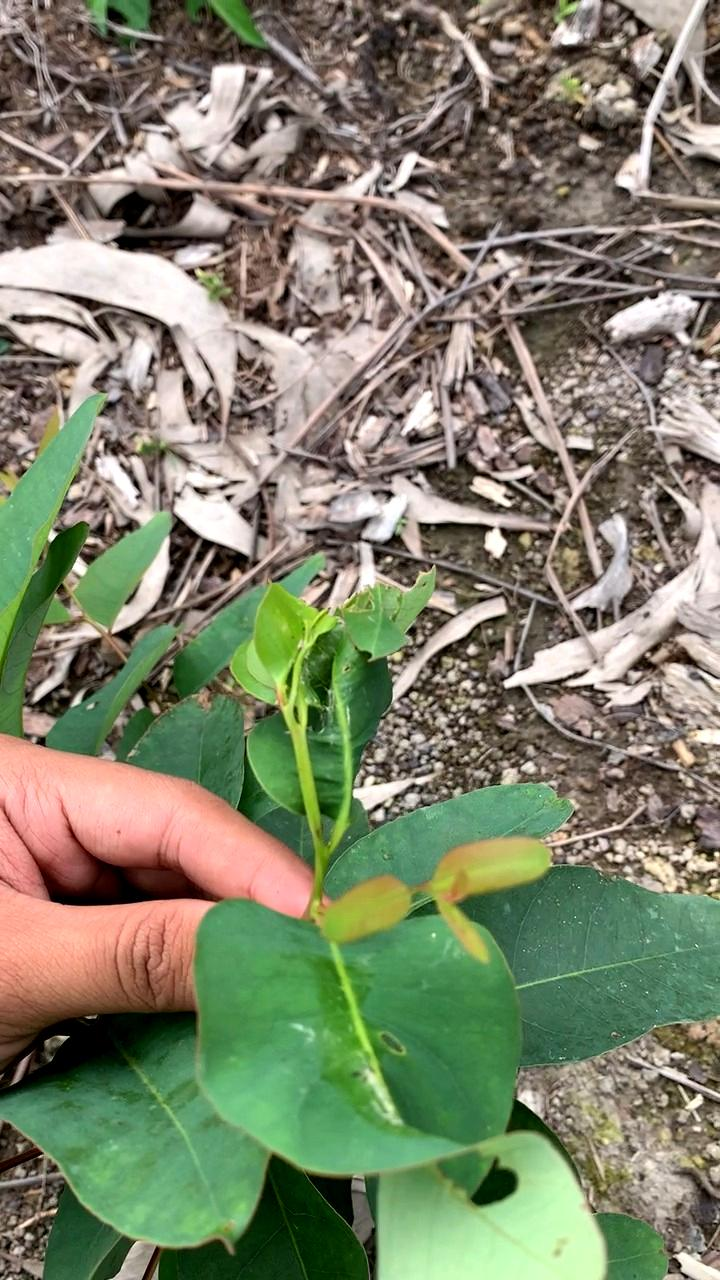Leaf Roller - Leaf: (236, 583, 431, 739)
